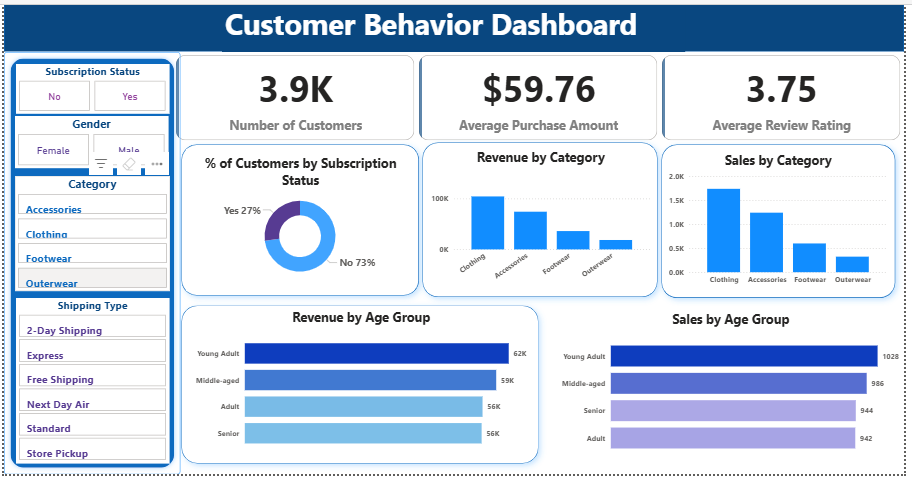

The page's visual inventory and layout, read from the dashboard file:
{"tool":"powerbi","page":{"name":"Page 1","canvas":[1500,820],"ordinal":0},"visuals":[{"type":"cardVisual","fields":{"Data":["customer.Number of Customers","customer.Average Purchase Amount","customer.Average Review Rating"]},"box":[282,116,1218,152],"z":0},{"type":"shape","box":[0,0,1500,116],"z":1000},{"type":"textbox","box":[363,31.5,772.2,85.2],"z":2000},{"type":"shape","box":[282,256,424,280],"z":3000},{"type":"donutChart","title":"% of Customers by Subscription Status","fields":{"Category":["customer.subscription_status"],"Y":["CountNonNull(customer.customer_id)"]},"box":[308,276,370,238],"z":4000},{"type":"shape","box":[684,254,420,286],"z":5000},{"type":"shape","box":[1082,256,418,284],"z":6000},{"type":"clusteredColumnChart","title":"Revenue by Category","fields":{"Y":["Sum(customer.purchase_amount)"],"Category":["customer.category"]},"box":[706,276,376,238],"z":7000},{"type":"clusteredColumnChart","title":"Sales by Category","fields":{"Y":["CountNonNull(customer.customer_id)"],"Category":["customer.category"]},"box":[1104,282,374,232],"z":8000},{"type":"shape","box":[0,116.7,294.4,703.7],"z":9000},{"type":"advancedSlicerVisual","title":"Subscription Status","fields":{"Values":["customer.subscription_status"]},"box":[20.4,137,255.6,83.3],"z":10000},{"type":"advancedSlicerVisual","title":"Gender","fields":{"Values":["customer.gender"]},"box":[18.5,224.1,255.6,87],"z":11000},{"type":"advancedSlicerVisual","title":"Category","fields":{"Values":["customer.category"]},"box":[18.5,324.1,257.4,190.7],"z":12000},{"type":"advancedSlicerVisual","title":"Shipping Type","fields":{"Values":["customer.shipping_type"]},"box":[20.4,525.9,255.6,275.9],"z":13000},{"type":"clusteredBarChart","title":"Sales by Age Group","fields":{"Y":["CountNonNull(customer.customer_id)"],"Category":["customer.age_group"]},"box":[924.1,546.3,575.9,255.6],"z":14000},{"type":"shape","box":[281.7,525,623.3,291.7],"z":15000},{"type":"clusteredBarChart","title":"Revenue by Age Group","fields":{"Y":["Sum(customer.purchase_amount)"],"Category":["customer.age_group"]},"box":[314,544,564,250],"z":16000}]}

Visuals, with their boxes in screenshot pixels (x1, y1, x2, y2):
cardVisual - customer.Number of Customers x customer.Average Purchase Amount: select_region(170, 49, 906, 141)
shape: select_region(0, 0, 906, 49)
textbox: select_region(219, 0, 686, 49)
shape: select_region(170, 133, 426, 302)
"% of Customers by Subscription Status" donutChart: select_region(186, 145, 410, 289)
shape: select_region(413, 132, 667, 305)
shape: select_region(654, 133, 906, 305)
"Revenue by Category" clusteredColumnChart: select_region(426, 145, 654, 289)
"Sales by Category" clusteredColumnChart: select_region(667, 149, 893, 289)
shape: select_region(0, 49, 178, 474)
"Subscription Status" advancedSlicerVisual: select_region(12, 61, 167, 112)
"Gender" advancedSlicerVisual: select_region(11, 114, 166, 167)
"Category" advancedSlicerVisual: select_region(11, 174, 167, 290)
"Shipping Type" advancedSlicerVisual: select_region(12, 296, 167, 463)
"Sales by Age Group" clusteredBarChart: select_region(558, 309, 906, 463)
shape: select_region(170, 296, 547, 472)
"Revenue by Age Group" clusteredBarChart: select_region(190, 307, 530, 458)
